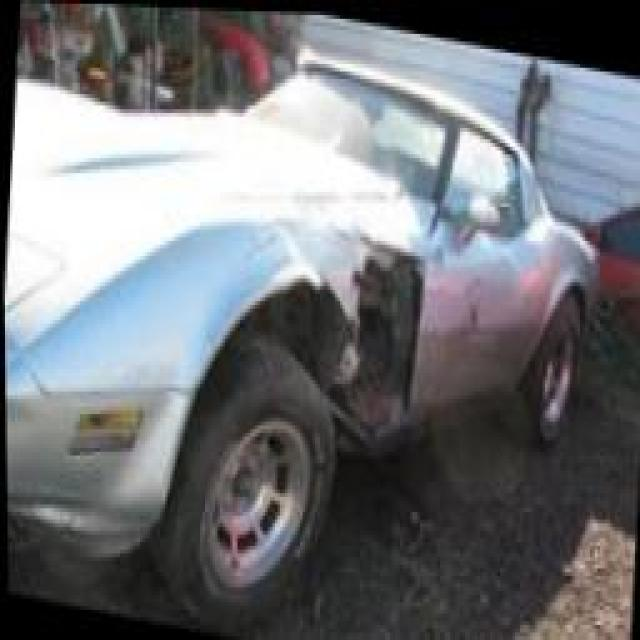Bumper: (5, 463, 159, 578)
Fender: (222, 169, 440, 425)
